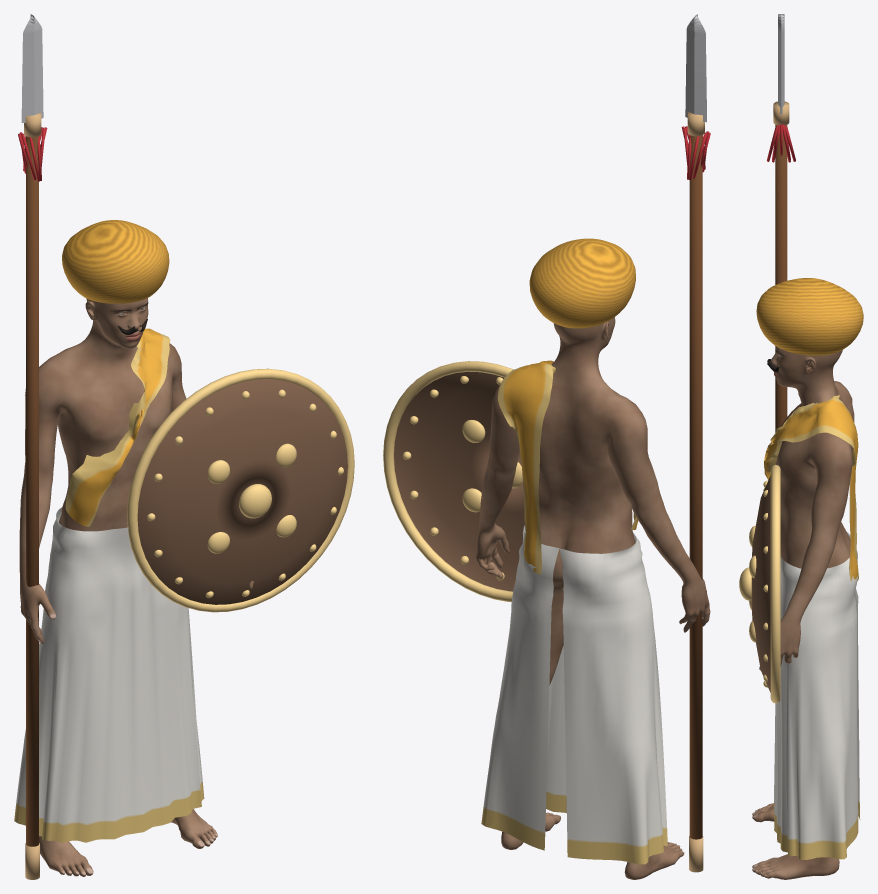
Rendered from ind_spear_saffron.glb.
3 renders of one model, left to right at view 1: azimuth 30°, elevation 25°; view 2: azimuth 150°, elevation 25°; view 3: azimuth 270°, elevation 25°, orthographic. The views are drawn at different scales.
Parts seen in each view (by area): view 1: A_ind_spear_saffron; view 2: A_ind_spear_saffron; view 3: A_ind_spear_saffron.
Part boxes in pixels (box(x1,y1,x2,y2)): A_ind_spear_saffron: box(14, 14, 354, 879); A_ind_spear_saffron: box(383, 14, 710, 879); A_ind_spear_saffron: box(739, 14, 863, 879).
Bounding box in the file's own units: 1.06 × 2.62 × 0.3753.
Materials: 18 (9 with a texture image).
